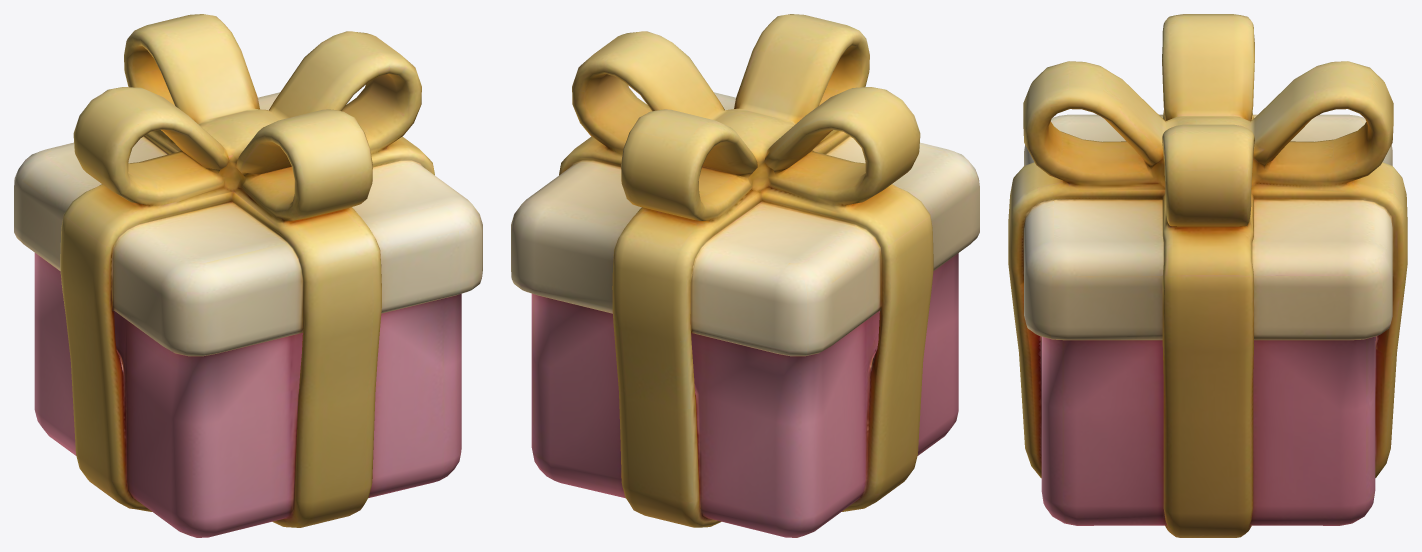
File: gift-box.glb
3 views of the same model, side by side, from view 1: azimuth 30°, elevation 25°; view 2: azimuth 150°, elevation 25°; view 3: azimuth 270°, elevation 25° (orthographic).
Parts seen in each view (by area): view 1: tripo_node_88aefa1a-ae35-445f-b879-95a138fd7cef; view 2: tripo_node_88aefa1a-ae35-445f-b879-95a138fd7cef; view 3: tripo_node_88aefa1a-ae35-445f-b879-95a138fd7cef.
Boxes of the visible parts, left/top/right/bottom form: tripo_node_88aefa1a-ae35-445f-b879-95a138fd7cef: left=14, top=14, right=482, bottom=537; tripo_node_88aefa1a-ae35-445f-b879-95a138fd7cef: left=511, top=14, right=979, bottom=537; tripo_node_88aefa1a-ae35-445f-b879-95a138fd7cef: left=1008, top=14, right=1407, bottom=537.
Size of the model in its own units: 0.8849 by 0.9982 by 0.8888.
Materials: 1 (1 with a texture image).
